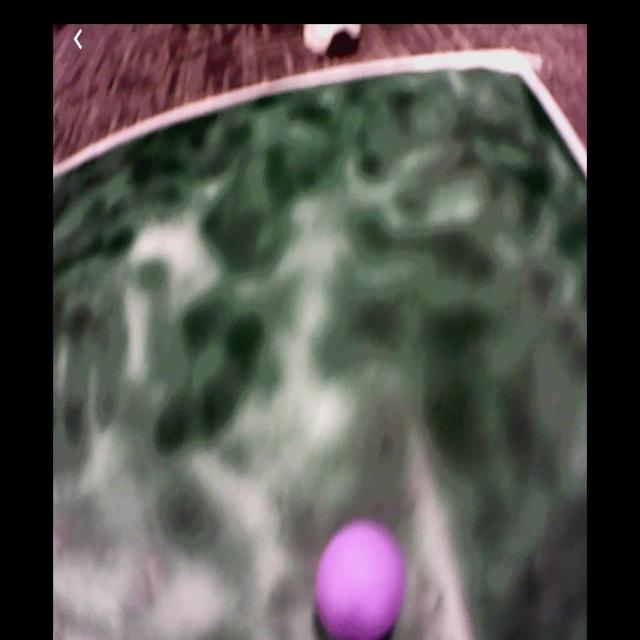ball: (314, 523, 405, 639)
